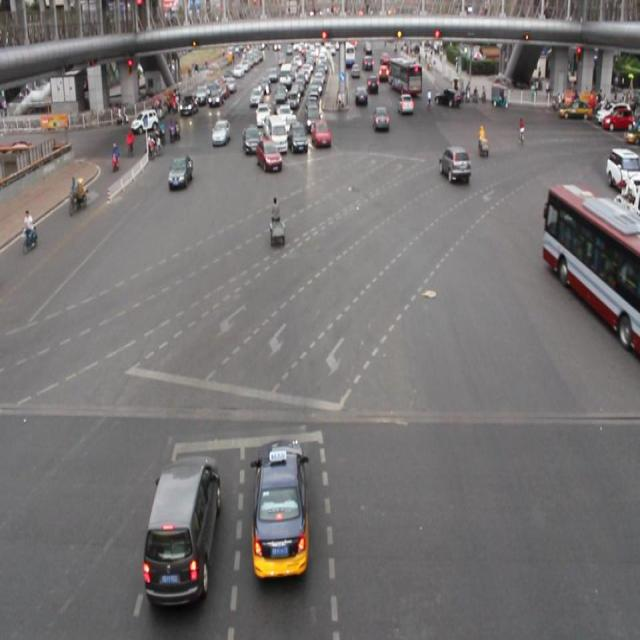car: (253, 439, 309, 581), (439, 145, 470, 184), (168, 155, 193, 189), (310, 117, 332, 151), (258, 139, 280, 173), (210, 116, 231, 148), (288, 120, 307, 154), (242, 122, 260, 154), (372, 104, 389, 132)
truck: (142, 453, 220, 604), (267, 115, 287, 153)
van: (538, 187, 640, 349)
